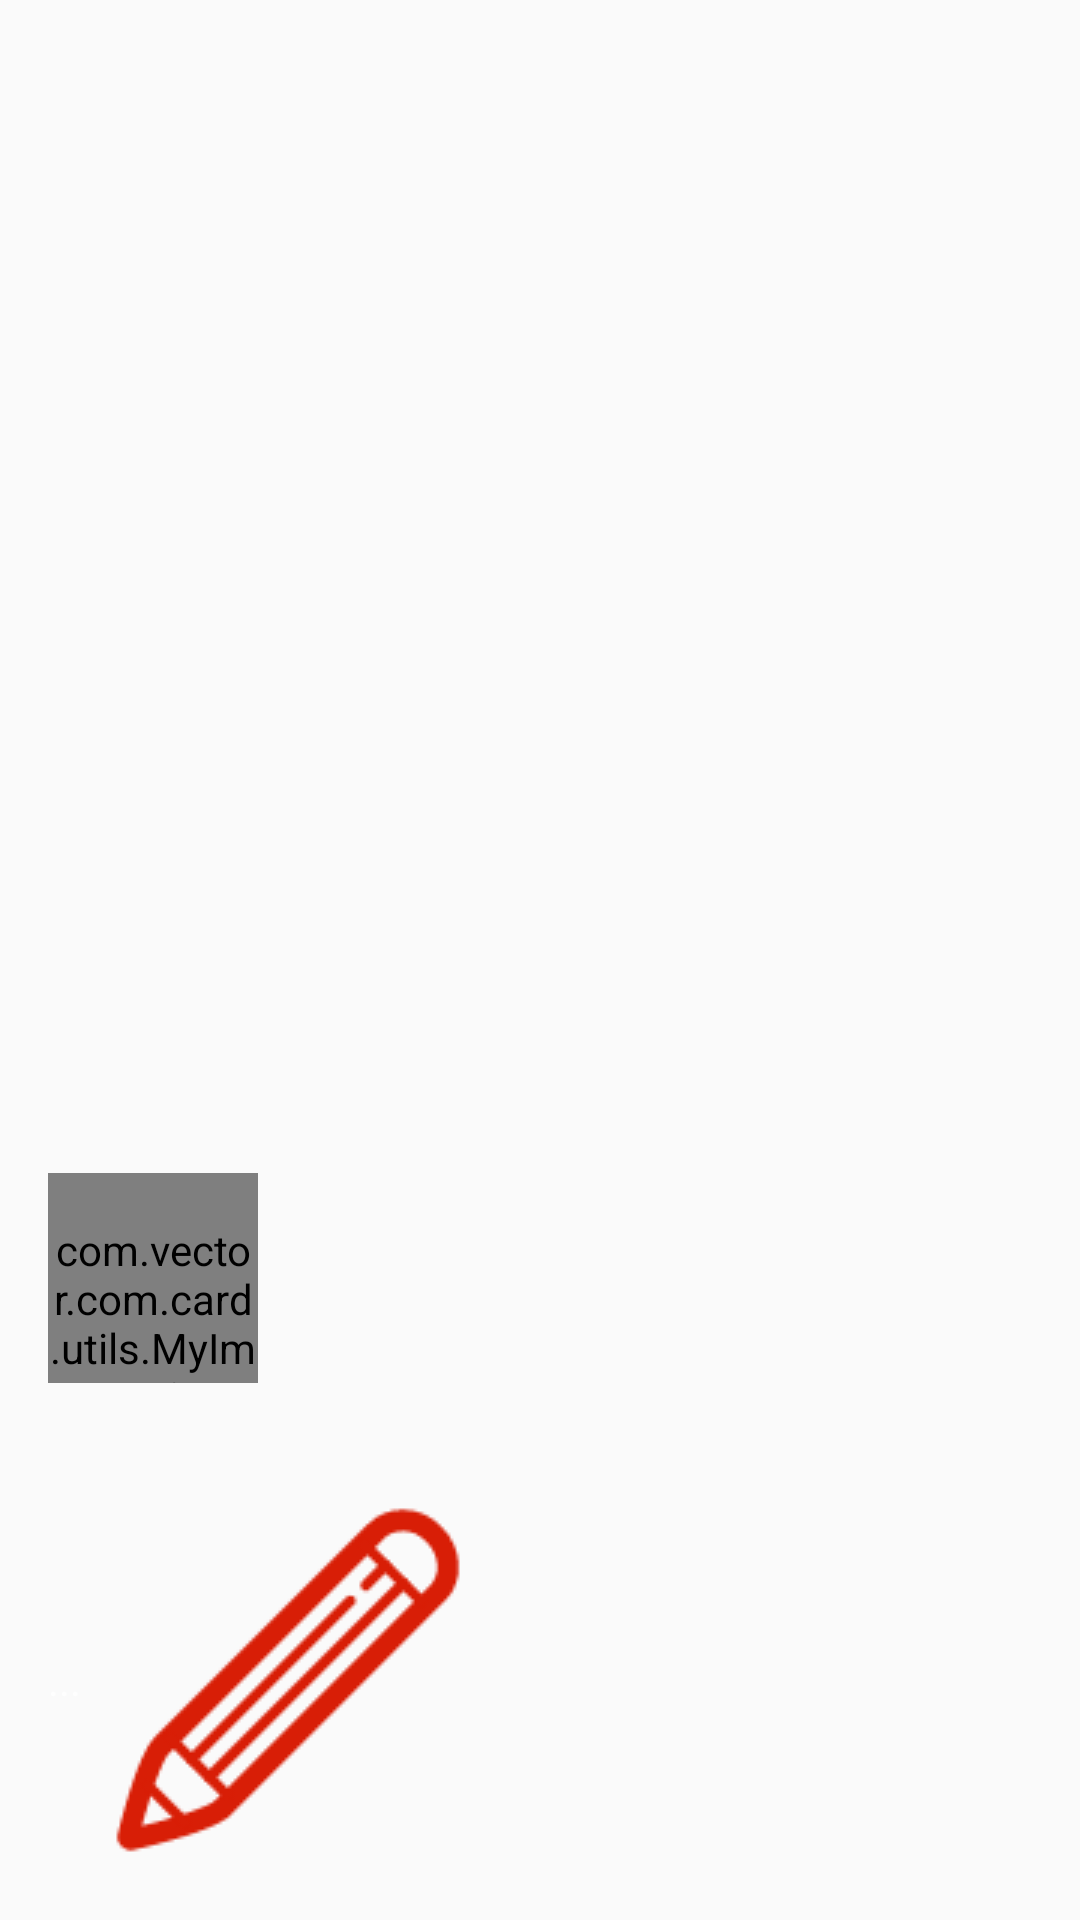

Screen size 1080 × 1920. Icon name, then its box in pixels as (x1, y1, x2, y2):
pencil: (116, 1508, 460, 1852)
